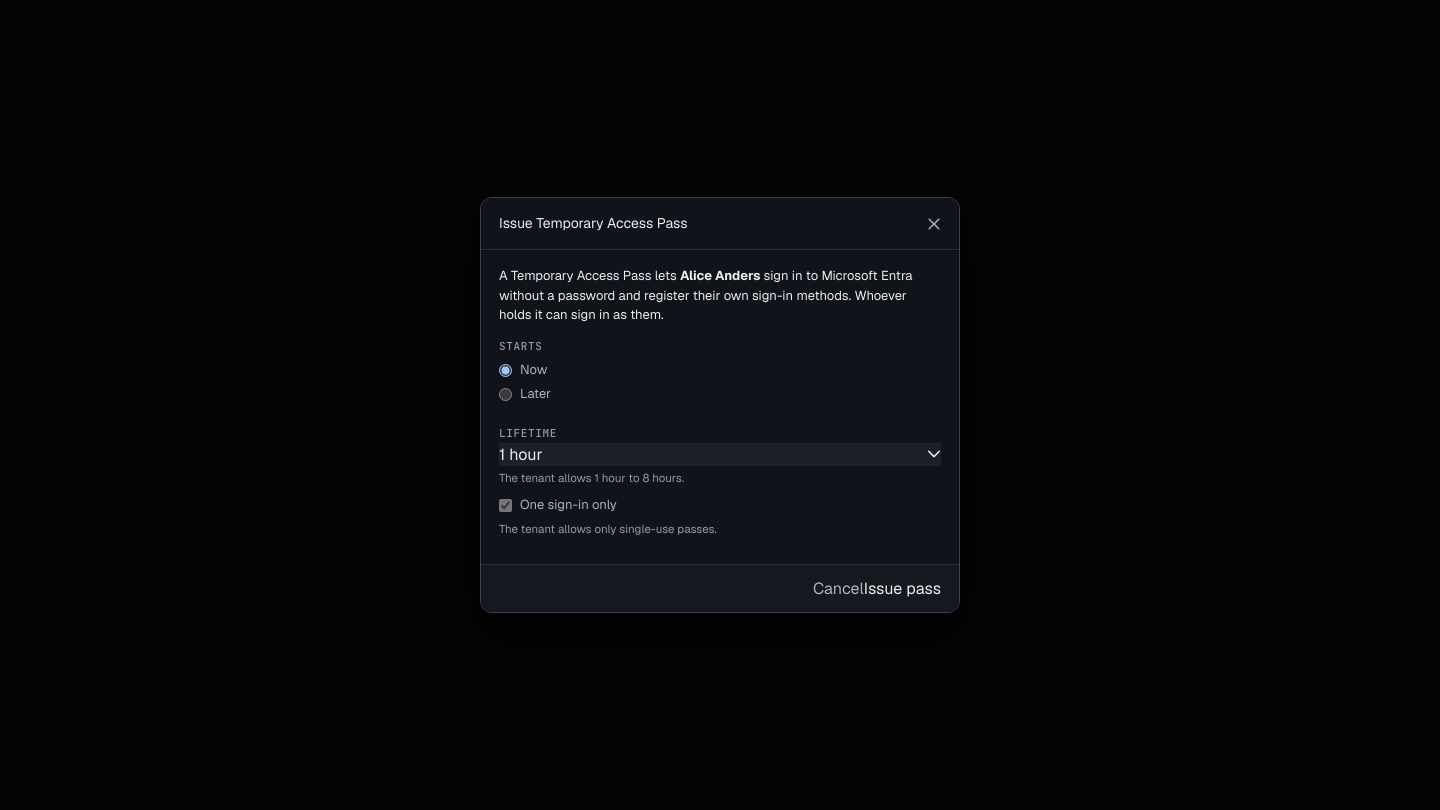
Test: the Issue TAP dialog › issues a pass within the policy and shows it until closed
This screenshot has width=1440, height=810.
Click the button "Issue pass": (902, 588) [864, 577, 941, 600]
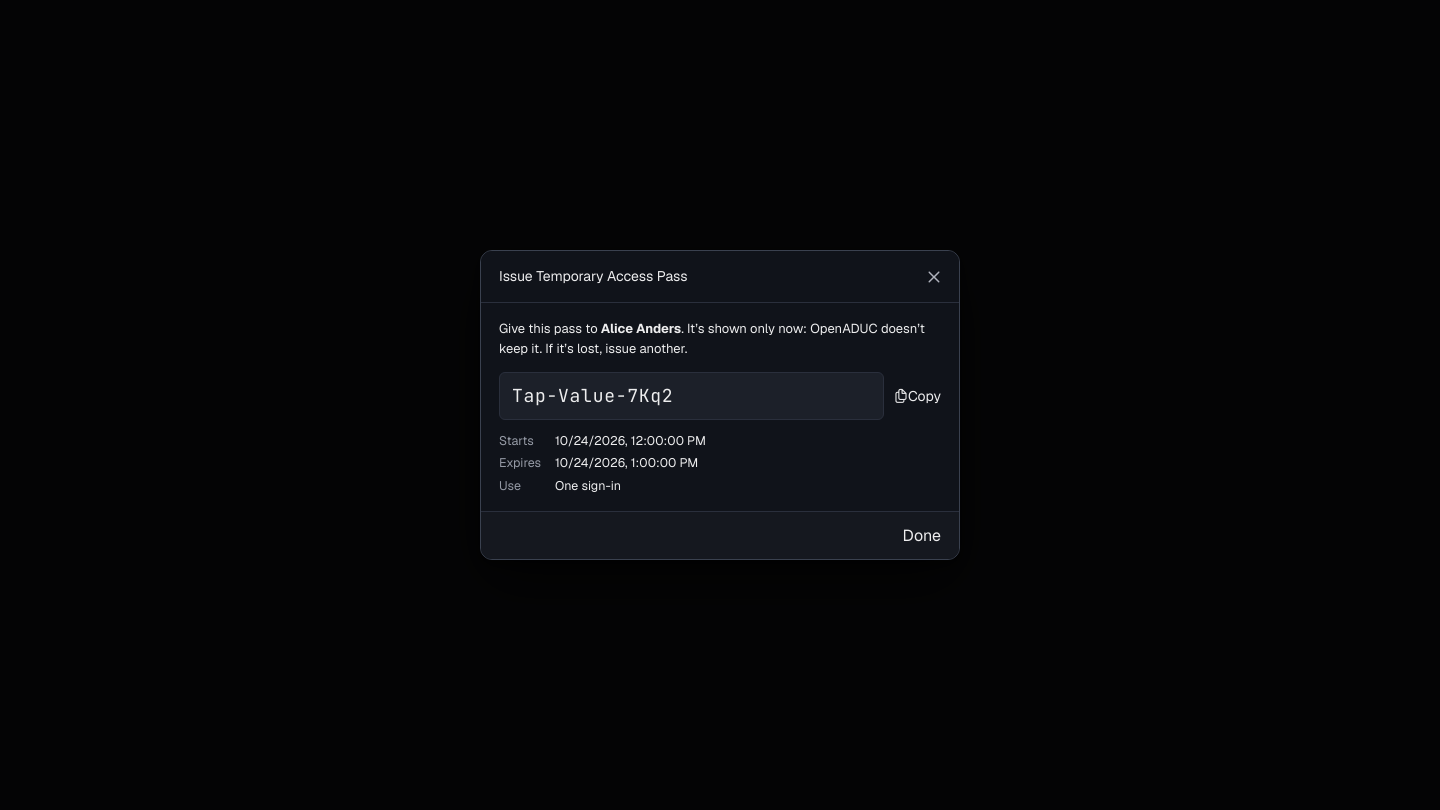
Now the text with test id "tap-value" reads "Tap-Value-7Kq2", box [512, 384, 673, 407]
